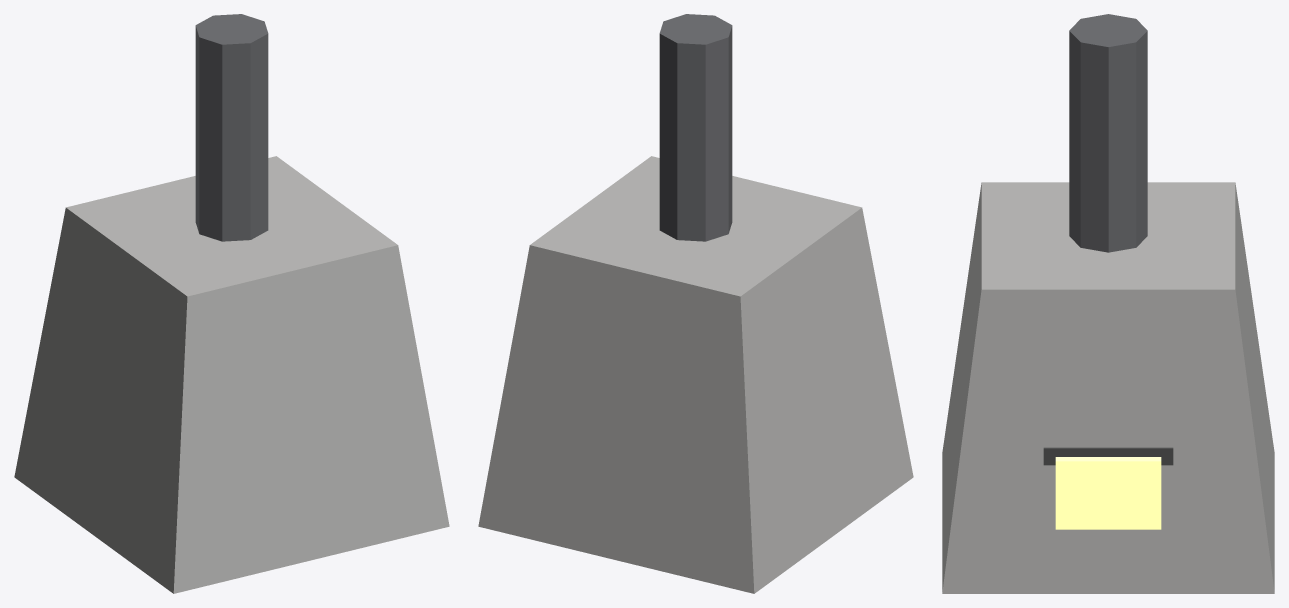
File: deploy_furnace.glb
3 views of the same model, side by side, from view 1: azimuth 30°, elevation 25°; view 2: azimuth 150°, elevation 25°; view 3: azimuth 270°, elevation 25° (orthographic). The views are drawn at different scales.
Visible parts, largest first — view 1: deploy_furnace; view 2: deploy_furnace; view 3: deploy_furnace.
Part boxes in pixels (box(x1,y1,x2,y2)): deploy_furnace: box(14, 14, 449, 593); deploy_furnace: box(478, 14, 913, 593); deploy_furnace: box(942, 14, 1274, 593).
Bounding box in the file's own units: 1.1 × 1.8 × 1.1.
